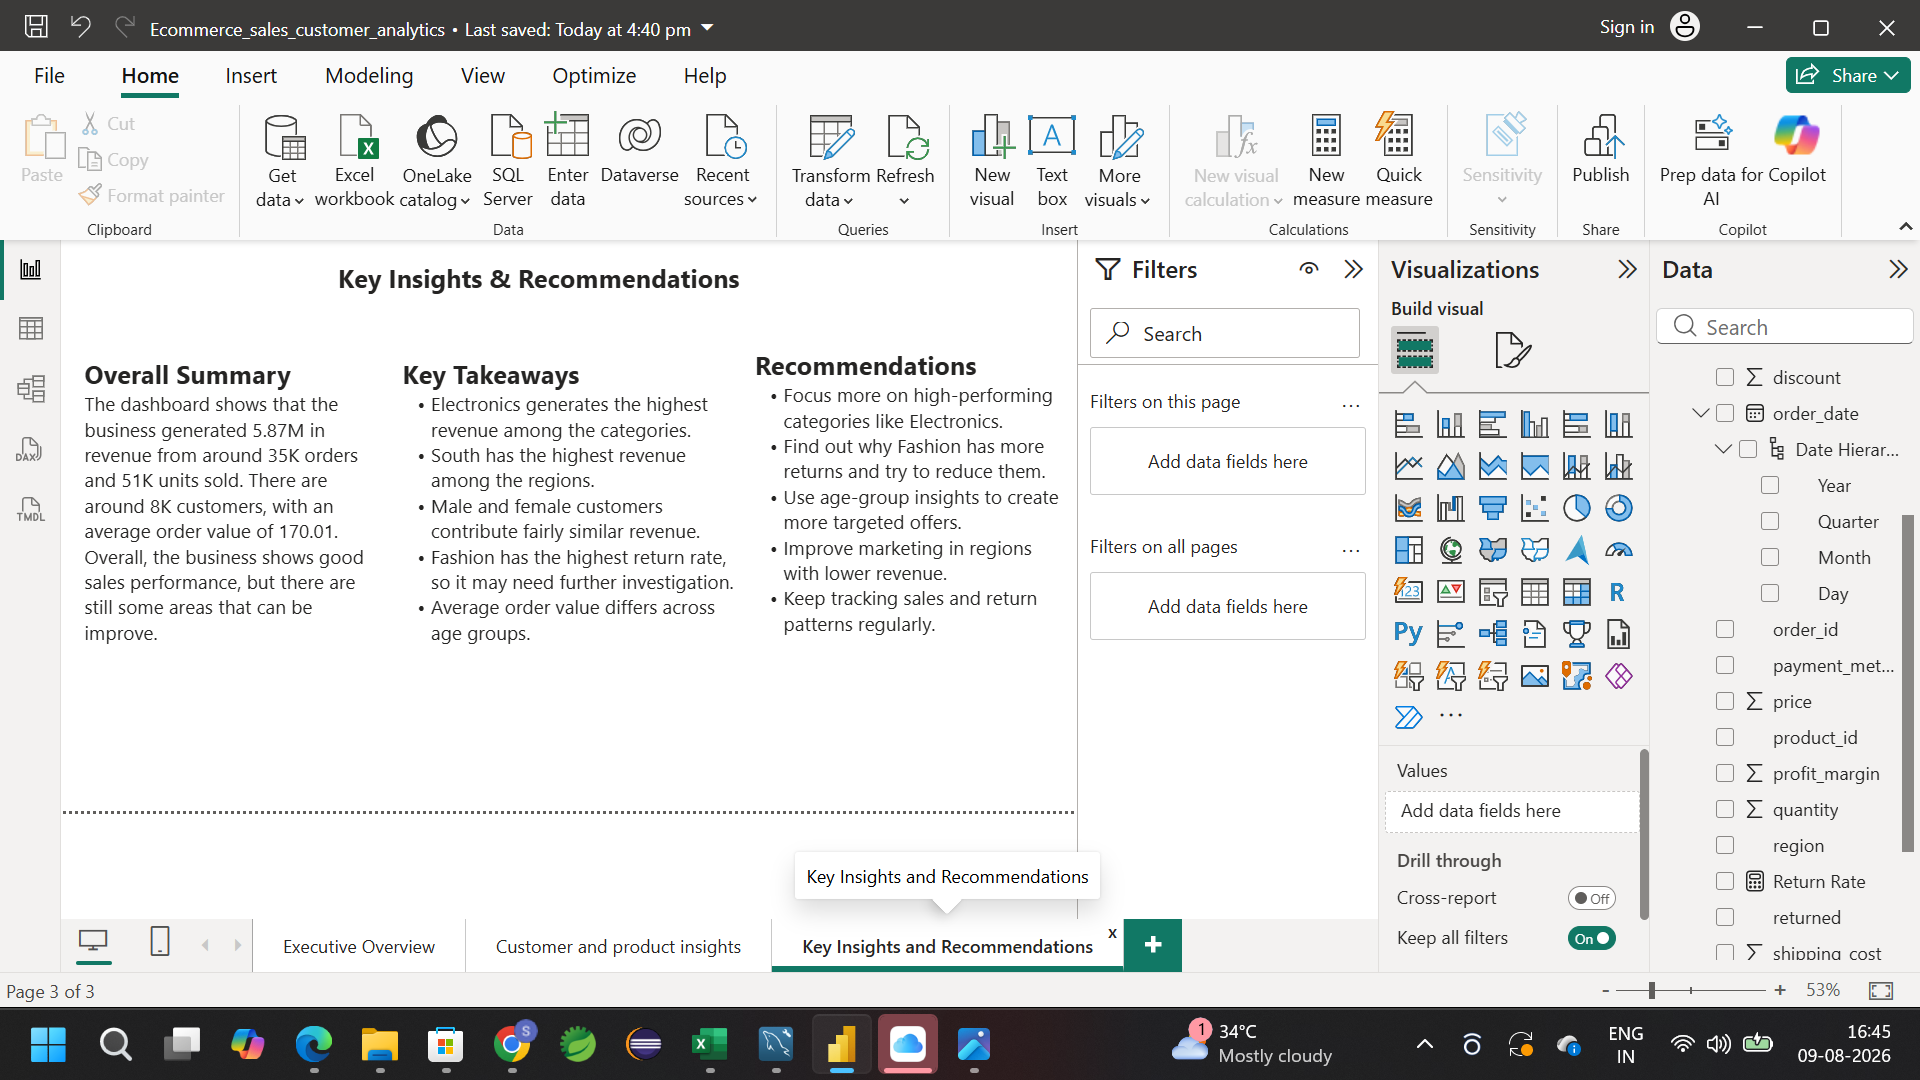

What the dashboard file says about the page in this screenshot:
{"tool":"powerbi","page":{"name":"Key Insights and Recommendations","canvas":[1280,720],"ordinal":2},"visuals":[{"type":"textbox","box":[343.9,20.8,599.1,62.4],"z":0},{"type":"textbox","box":[24.6,141.7,372.3,483.8],"z":1},{"type":"textbox","box":[425.2,141.7,434.6,457.3],"z":2},{"type":"textbox","box":[869.3,130.4,410,457],"z":3}]}

Visuals, with their boxes on the page's 1280x720 design canvas (x1, y1, x2, y2). These are canvas units, not pixel positions in the 1920x1080 screenshot, which may show the page scaled, cropped or inside an application window:
textbox: 344/21/943/83
textbox: 25/142/397/626
textbox: 425/142/860/599
textbox: 869/130/1279/587
